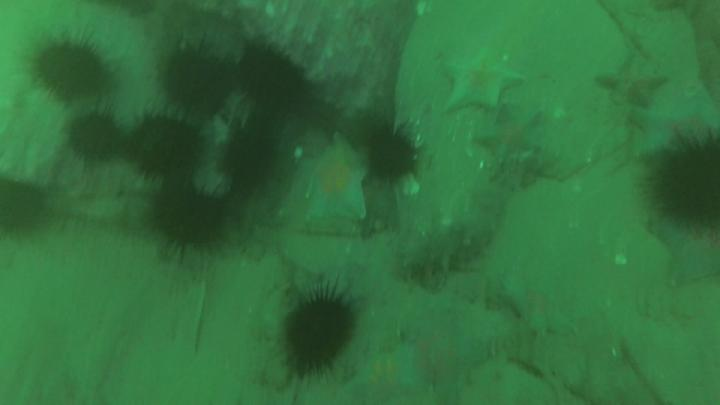echinus: (663, 137, 720, 228), (241, 41, 307, 114), (288, 297, 353, 369), (161, 50, 226, 111), (39, 45, 111, 98), (160, 193, 229, 248), (138, 120, 198, 173), (226, 134, 273, 191), (67, 116, 123, 161), (1, 183, 46, 238), (373, 134, 414, 177)
holothurian: (397, 210, 496, 286)
starfish: (394, 329, 487, 405), (298, 136, 370, 220), (637, 88, 719, 158), (446, 50, 522, 115), (505, 276, 576, 336), (654, 231, 720, 287), (598, 55, 666, 107), (477, 107, 545, 157)
